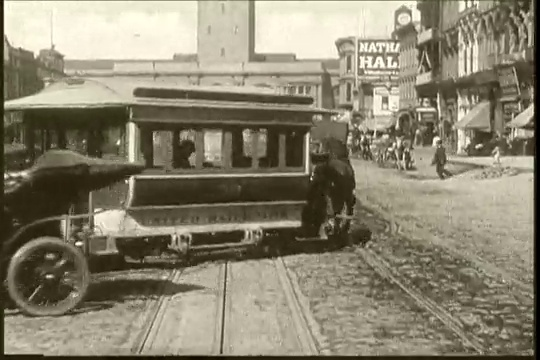carriage: (428, 139, 454, 188)
trolley: (19, 75, 349, 259)
